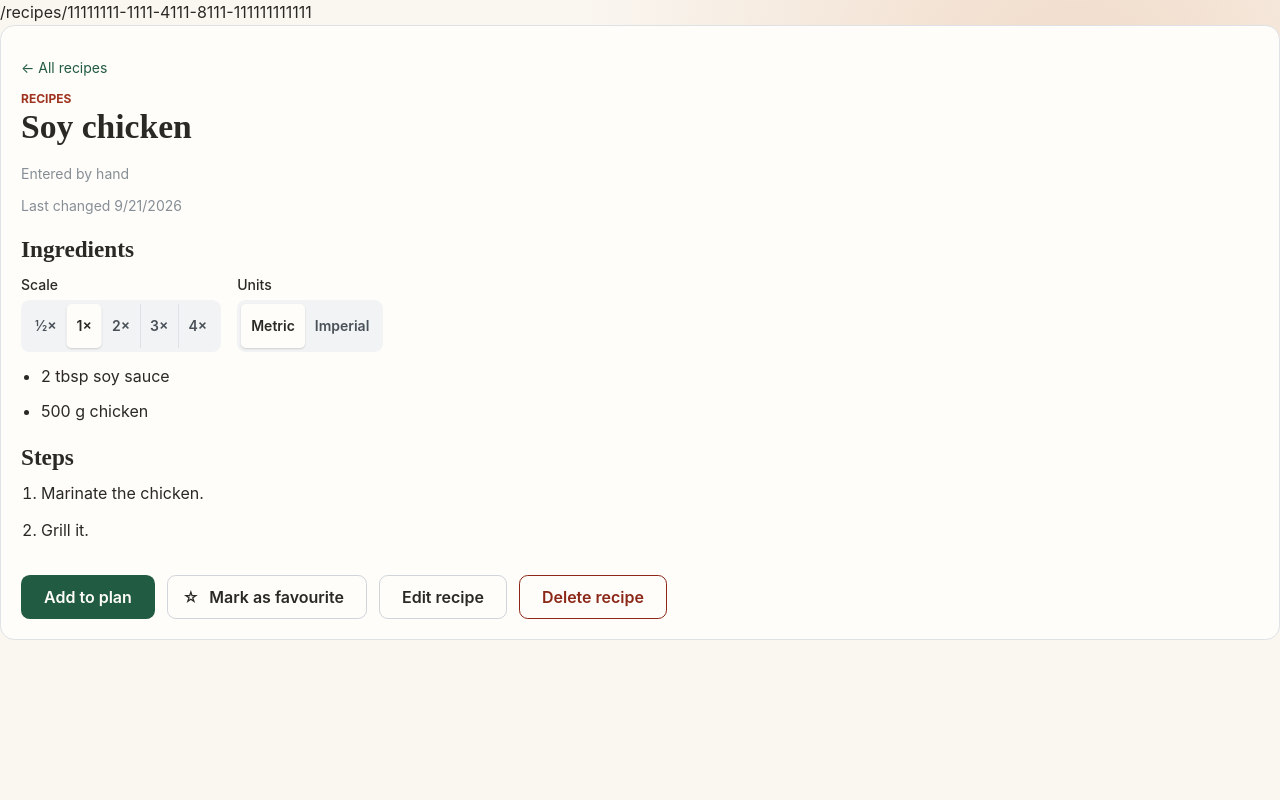
it: Recipe deletion › names the recipe in a focus-trapped dialog and cancels without deleting
Step 1. Click the button "Delete recipe" → (593, 597), box top-left (519, 575), bottom-right (667, 619)
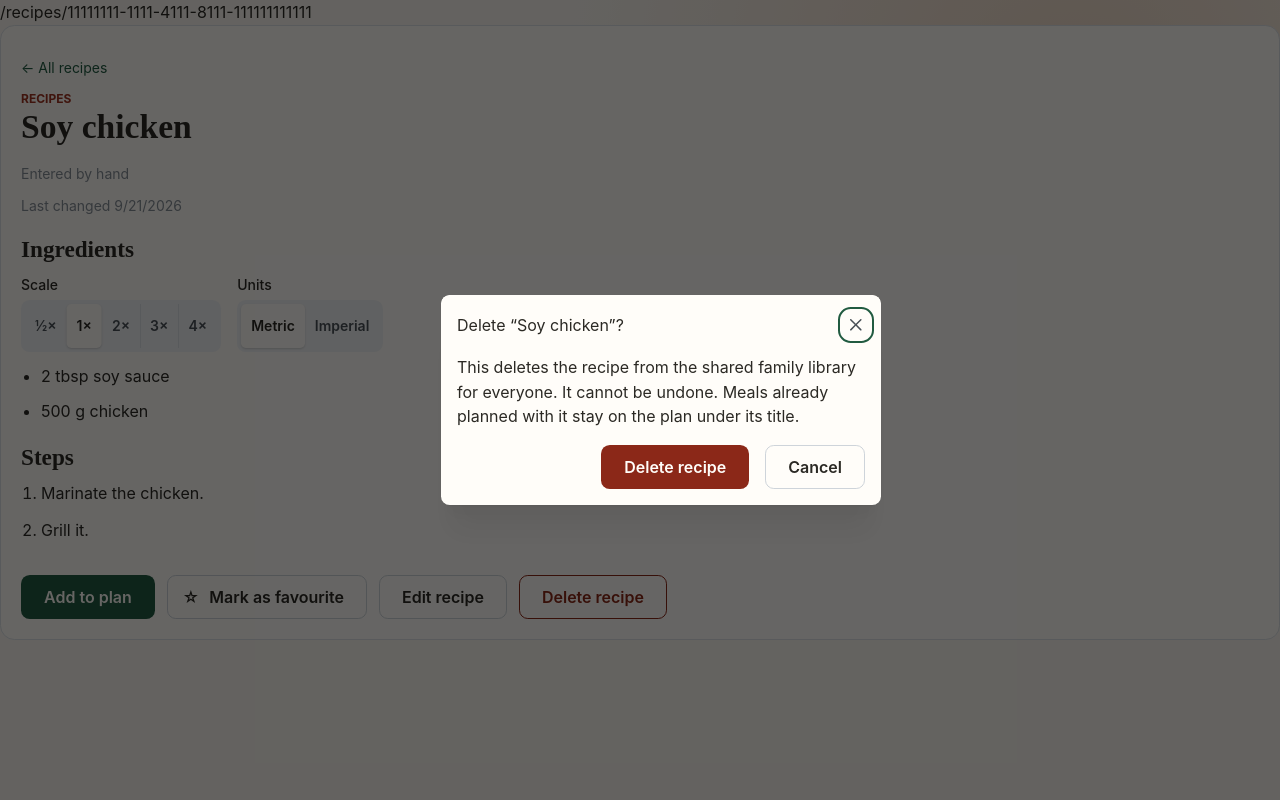
Result: the heading "Delete “Soy chicken”?" is shown at top-left (457, 317), bottom-right (624, 333)
Step 2. Click the button "Cancel" → (815, 467), box top-left (765, 445), bottom-right (865, 489)
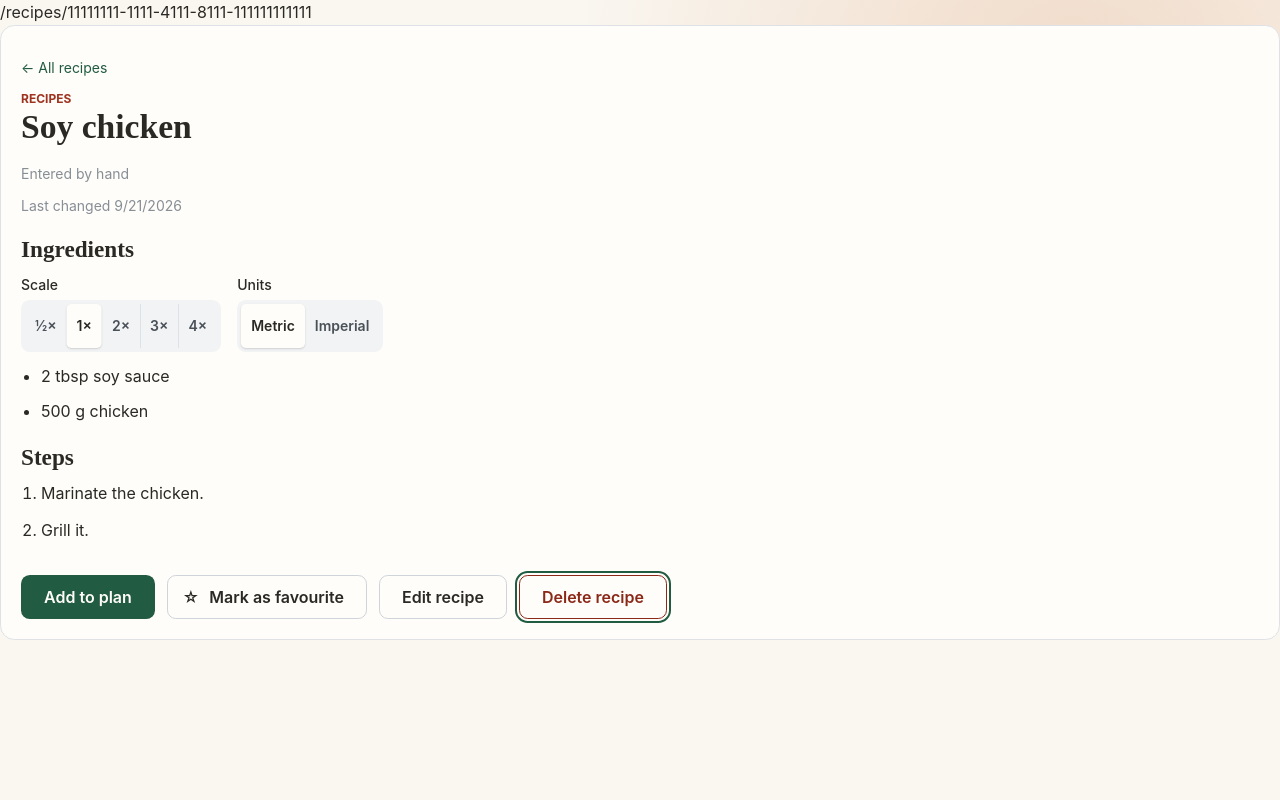
Result: the dialog is gone
